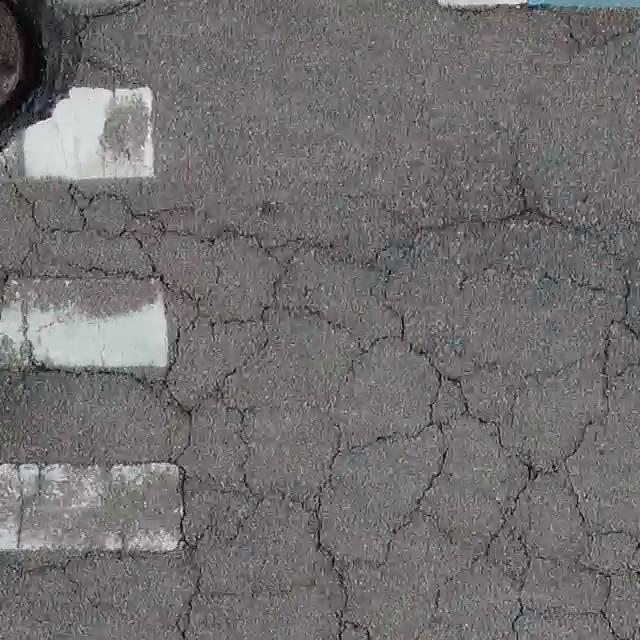GRIETA: (513, 124, 530, 199)
PIEL DE COCODRILO: (0, 157, 639, 639), (418, 0, 639, 59)
